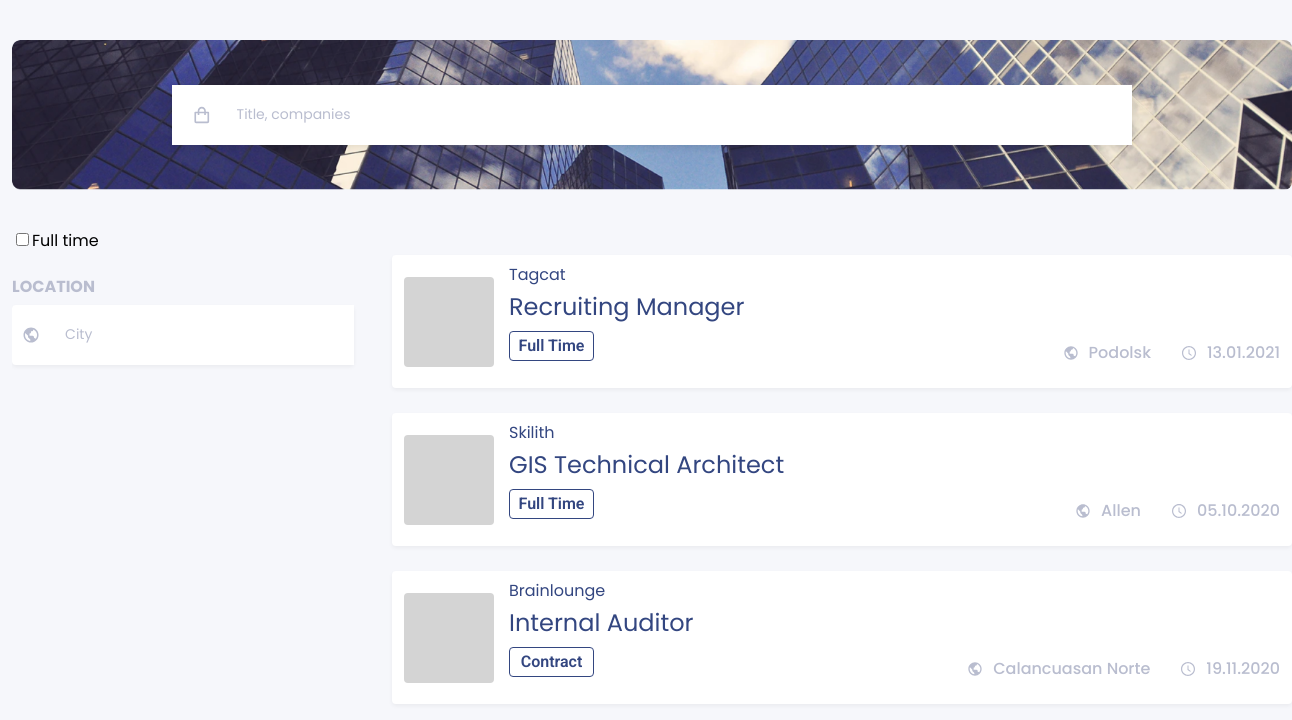
Test: MainPage › renders jobs with given city
Type "Podol" into the field with placeholder "City".
click(197, 335); type("Podol")  # box [40,305,354,365]
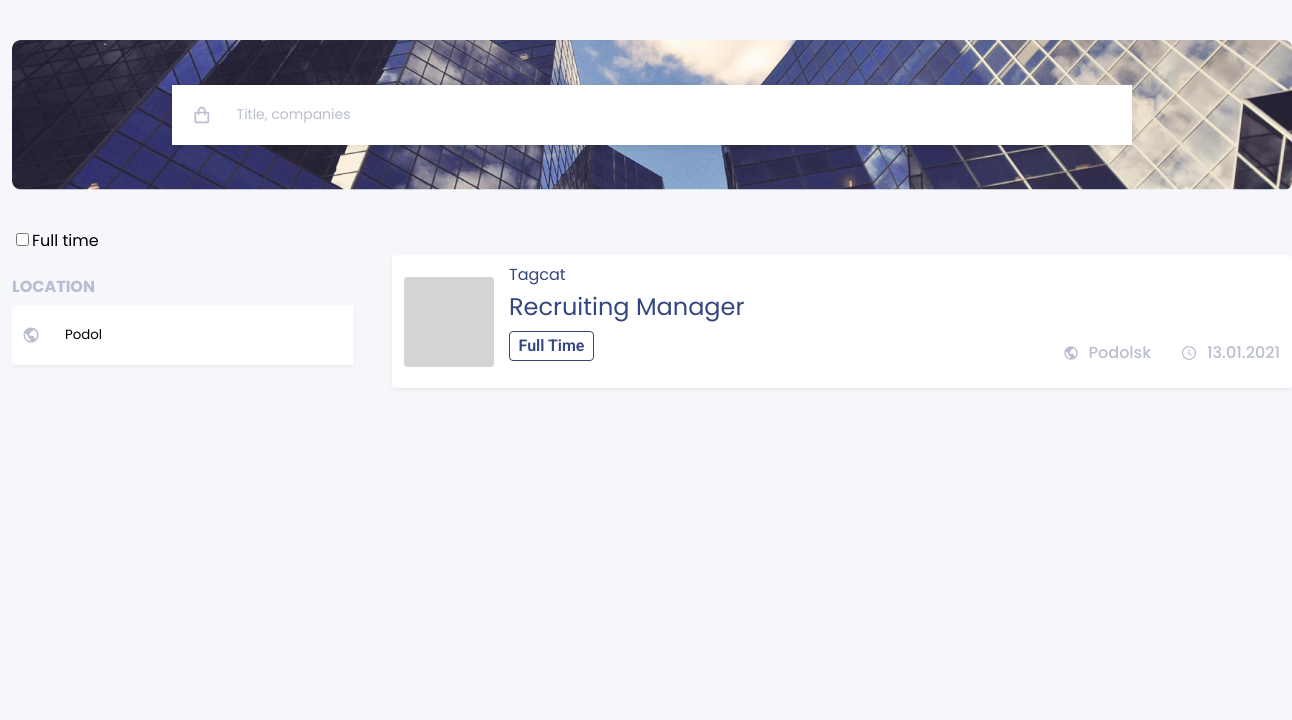
Expected: the heading "Recruiting Manager" is shown, [509,290,744,323]
Result: the link "Internal Auditor" is gone
